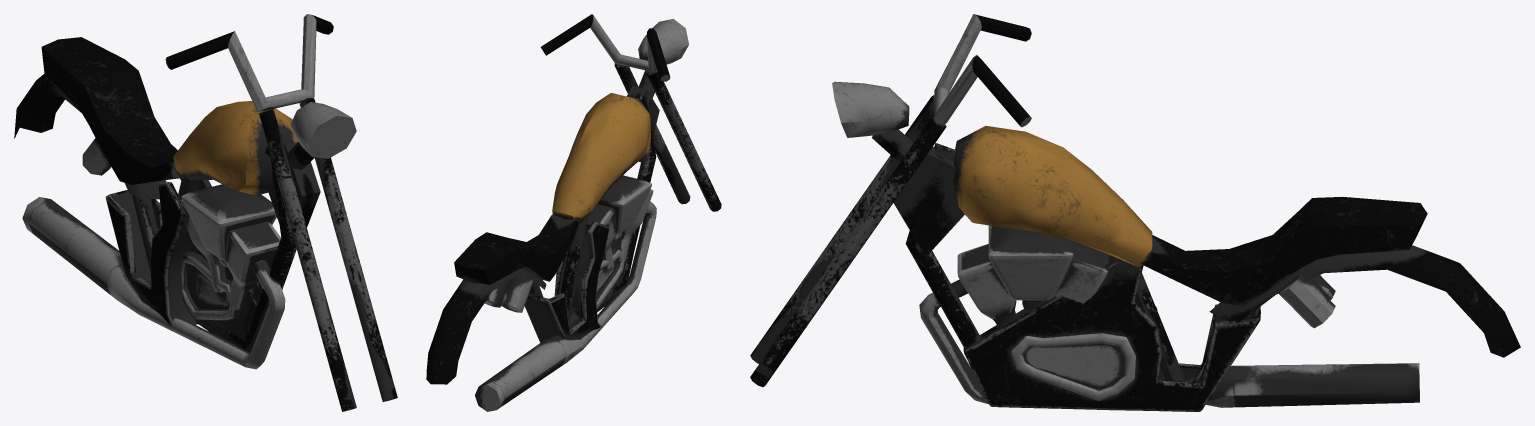
Rendered from body.glb.
The picture shows the model from 3 angles, left to right: view 1: azimuth 30°, elevation 25°; view 2: azimuth 150°, elevation 25°; view 3: azimuth 270°, elevation 25°; orthographic projection. The views are drawn at different scales.
Visible parts, largest first — view 1: Object_2; view 2: Object_2; view 3: Object_2.
Boxes of the visible parts, left/top/right/bottom form: Object_2: left=14, top=14, right=397, bottom=411; Object_2: left=426, top=14, right=721, bottom=411; Object_2: left=750, top=14, right=1520, bottom=411.
Bounding box in the file's own units: 35.87 × 72.75 × 131.
1 material, 1 textured.
